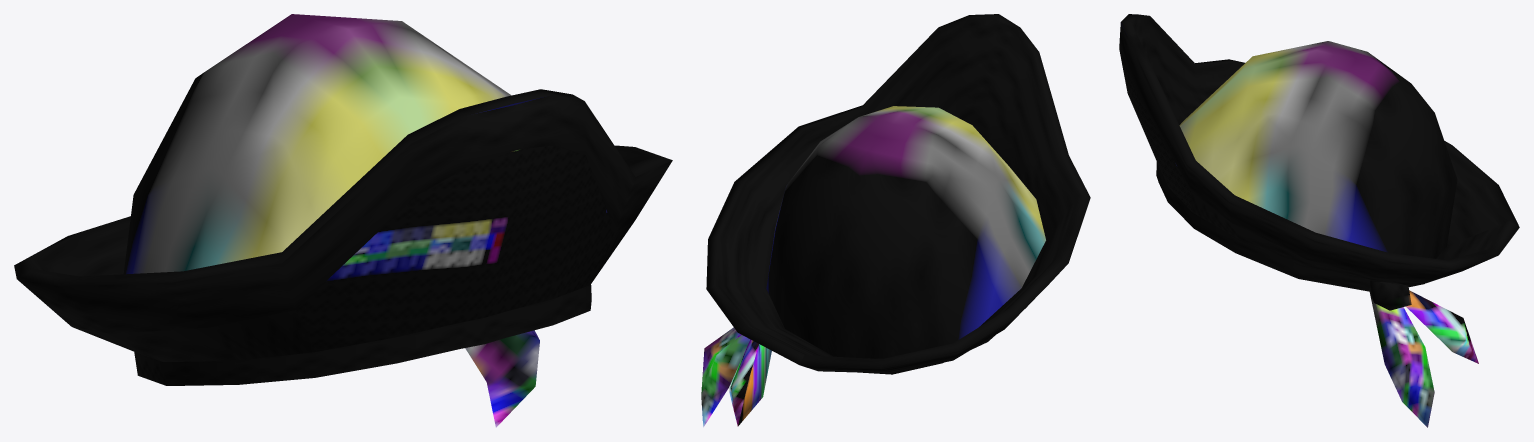
Rendered from hat_pirate_model.glb.
3 renders of one model, left to right at view 1: azimuth 30°, elevation 25°; view 2: azimuth 150°, elevation 25°; view 3: azimuth 270°, elevation 25°, orthographic. The views are drawn at different scales.
Visible parts, largest first — view 1: hat_pirate_model; view 2: hat_pirate_model; view 3: hat_pirate_model.
Boxes of the visible parts, x1,y1,x2,y2 form: hat_pirate_model: (14,14,672,427); hat_pirate_model: (701,14,1090,427); hat_pirate_model: (1119,14,1519,427).
Size of the model in its own units: 86.35 by 83.05 by 89.6.
1 material, 1 textured.
